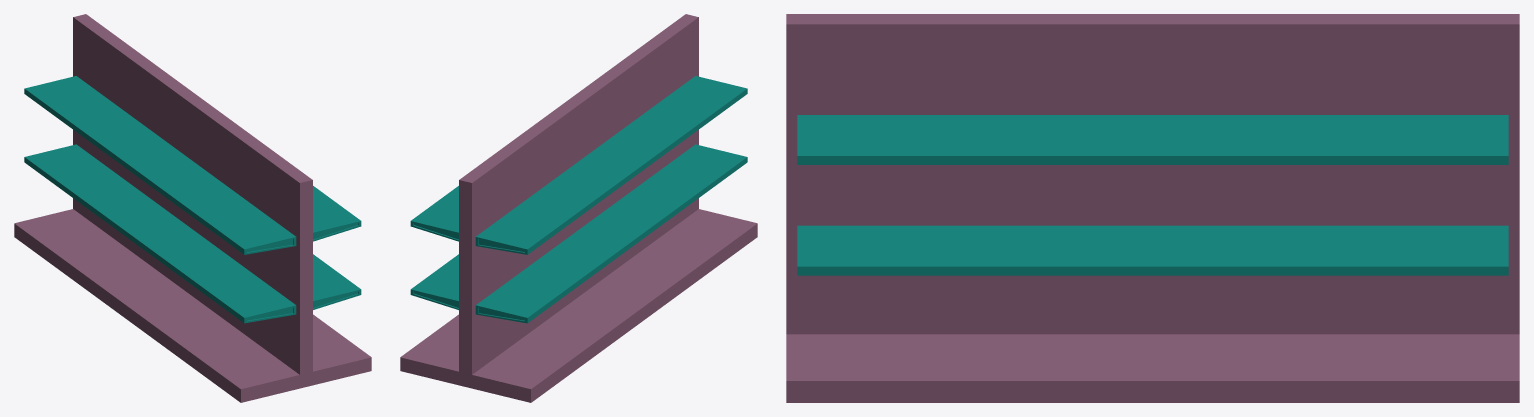
File: ApocalypticPharmacy01_StoreShelf.fbx
3 renders of one model, left to right at view 1: azimuth 30°, elevation 25°; view 2: azimuth 150°, elevation 25°; view 3: azimuth 270°, elevation 25°, orthographic. The views are drawn at different scales.
Visible parts, largest first — view 1: ApocalypticPharmacy01_StoreShelf; view 2: ApocalypticPharmacy01_StoreShelf; view 3: ApocalypticPharmacy01_StoreShelf.
Part boxes in pixels (x1,y1,x2,y2): ApocalypticPharmacy01_StoreShelf: (14,14,371,402); ApocalypticPharmacy01_StoreShelf: (400,14,757,402); ApocalypticPharmacy01_StoreShelf: (786,14,1519,402).
Bounding box in the file's own units: 1 × 1.5 × 3.
